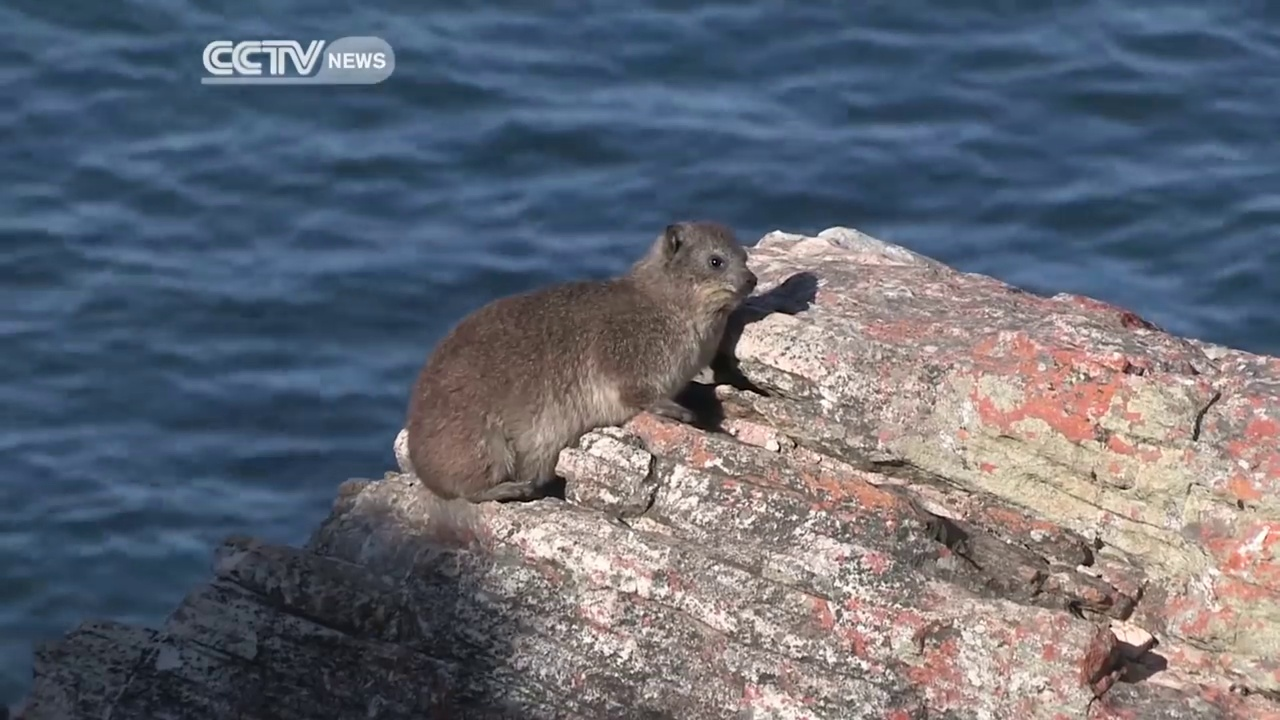Rock Hyrex: (404, 219, 759, 529)
